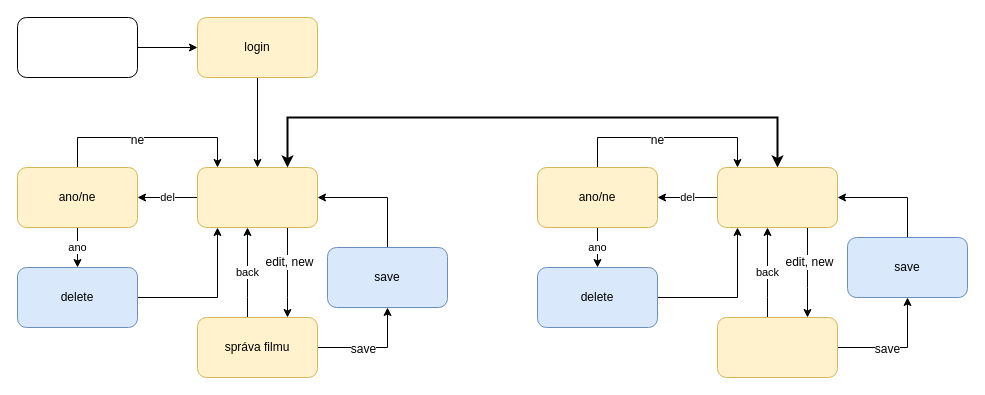
The diagram is 985 pixels wide and 395 high, and some of its shapes have lost their labels. The centre of each missing label's shape, as x and y in pixels:
seznam filmů: point (257, 197)
seznam osob: point (777, 197)
správa osoby: point (777, 347)
start: point (77, 47)
